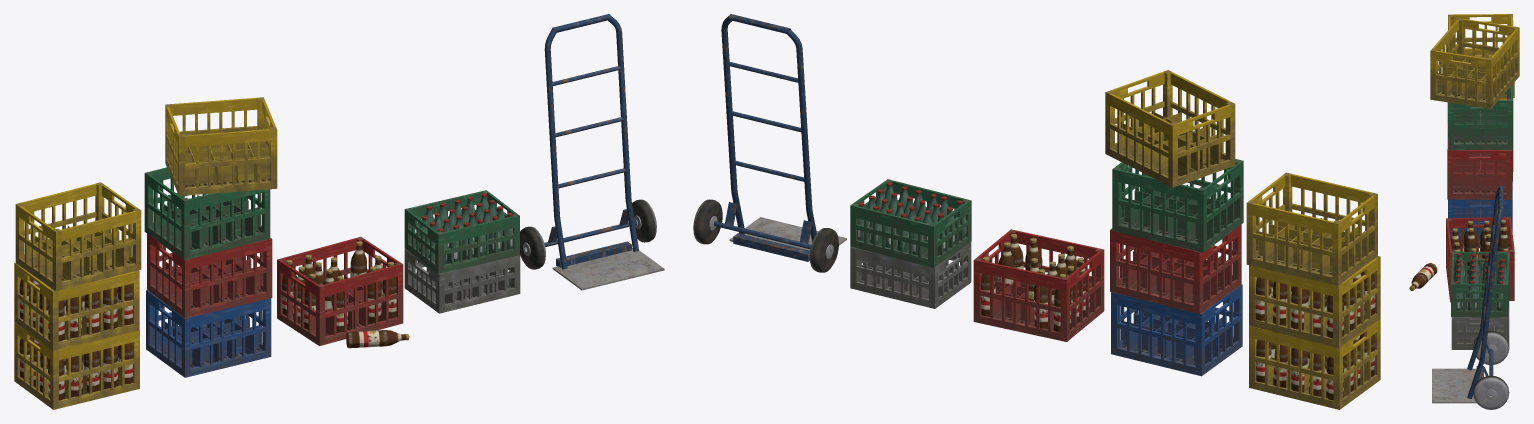
The model's file is drink-crate-stack.fbx.
3 views of the same model, side by side, from view 1: azimuth 30°, elevation 25°; view 2: azimuth 150°, elevation 25°; view 3: azimuth 270°, elevation 25° (orthographic). The views are drawn at different scales.
Visible parts, largest first — view 1: beer_stack_empty, beer_stack_full, soda_crates, crate_with_empties, Mesh_4, trolley_wheel_R_mesh, trolley_wheel_L_mesh; view 2: beer_stack_empty, beer_stack_full, soda_crates, crate_with_empties, Mesh_4, trolley_wheel_R_mesh, trolley_wheel_L_mesh; view 3: beer_stack_empty, soda_crates, Mesh_4, crate_with_empties, beer_stack_full, trolley_wheel_L_mesh, trolley_wheel_R_mesh.
Boxes of the visible parts, left/top/right/bottom form: beer_stack_empty: left=144, top=97, right=277, bottom=377; beer_stack_full: left=14, top=182, right=141, bottom=409; soda_crates: left=404, top=190, right=520, bottom=313; crate_with_empties: left=277, top=236, right=409, bottom=348; Mesh_4: left=544, top=14, right=664, bottom=290; trolley_wheel_R_mesh: left=520, top=226, right=545, bottom=269; trolley_wheel_L_mesh: left=632, top=199, right=656, bottom=242; beer_stack_empty: left=1105, top=70, right=1243, bottom=376; beer_stack_full: left=1246, top=172, right=1380, bottom=409; soda_crates: left=850, top=179, right=971, bottom=308; crate_with_empties: left=973, top=229, right=1104, bottom=341; Mesh_4: left=713, top=14, right=846, bottom=261; trolley_wheel_R_mesh: left=809, top=228, right=838, bottom=272; trolley_wheel_L_mesh: left=693, top=199, right=722, bottom=244; beer_stack_empty: left=1430, top=18, right=1519, bottom=248; soda_crates: left=1451, top=251, right=1509, bottom=349; Mesh_4: left=1432, top=185, right=1503, bottom=403; crate_with_empties: left=1409, top=217, right=1514, bottom=302; beer_stack_full: left=1447, top=14, right=1514, bottom=150; trolley_wheel_L_mesh: left=1473, top=375, right=1509, bottom=409; trolley_wheel_R_mesh: left=1473, top=331, right=1509, bottom=364.
Bounding box in the file's own units: 331 × 120 × 61.3.
Materials: 1 (1 with a texture image).
